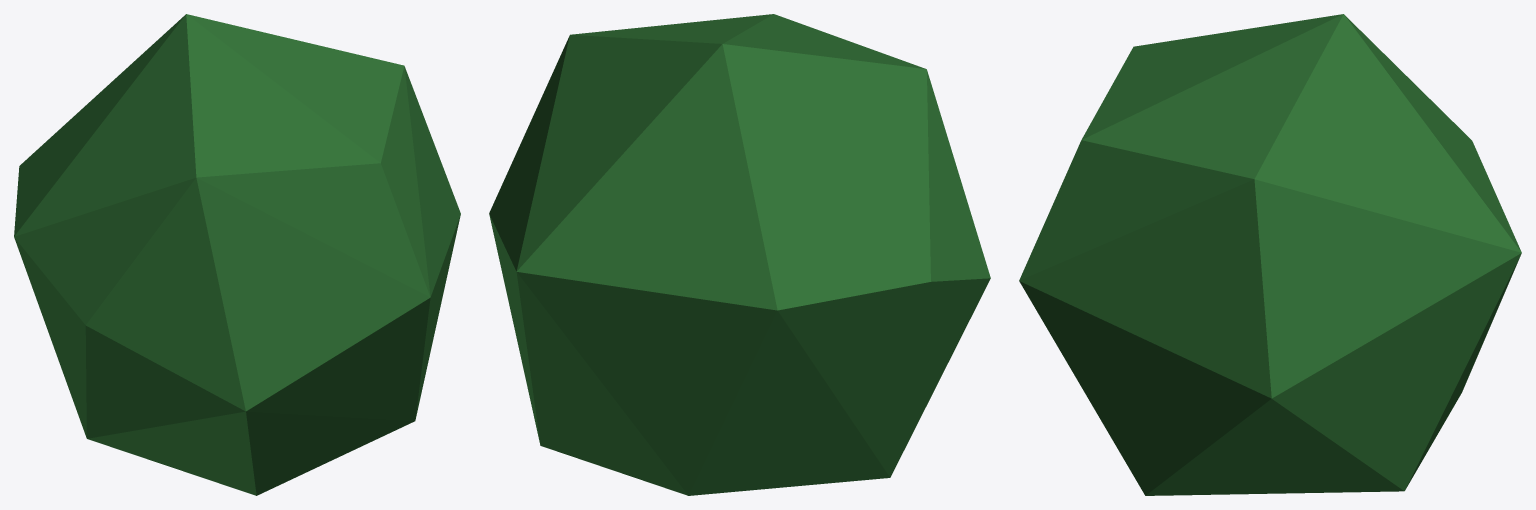
The model's file is shrub.fbx.
3 renders of one model, left to right at view 1: azimuth 30°, elevation 25°; view 2: azimuth 150°, elevation 25°; view 3: azimuth 270°, elevation 25°, orthographic. The views are drawn at different scales.
Parts seen in each view (by area): view 1: shrub; view 2: shrub; view 3: shrub.
Part boxes in pixels (box(x1,y1,x2,y2)): shrub: box(14, 14, 460, 495); shrub: box(489, 14, 990, 495); shrub: box(1019, 14, 1521, 495).
Bounding box in the file's own units: 150 × 148 × 143.
